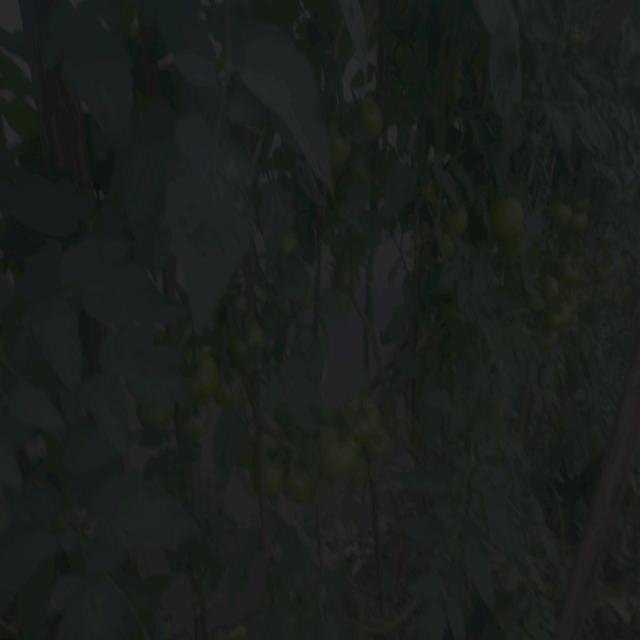tomato: (484, 195, 531, 263), (327, 421, 364, 489), (349, 387, 380, 440), (136, 400, 176, 437), (321, 119, 350, 168), (190, 349, 218, 393), (260, 455, 284, 497), (239, 327, 273, 356), (218, 370, 242, 411), (292, 463, 316, 502), (367, 100, 388, 142), (559, 254, 586, 281), (365, 425, 390, 454), (553, 302, 577, 330), (279, 236, 299, 267), (541, 270, 561, 301), (445, 208, 470, 231), (189, 400, 205, 435), (332, 269, 357, 287), (571, 210, 594, 228), (557, 202, 572, 225)
